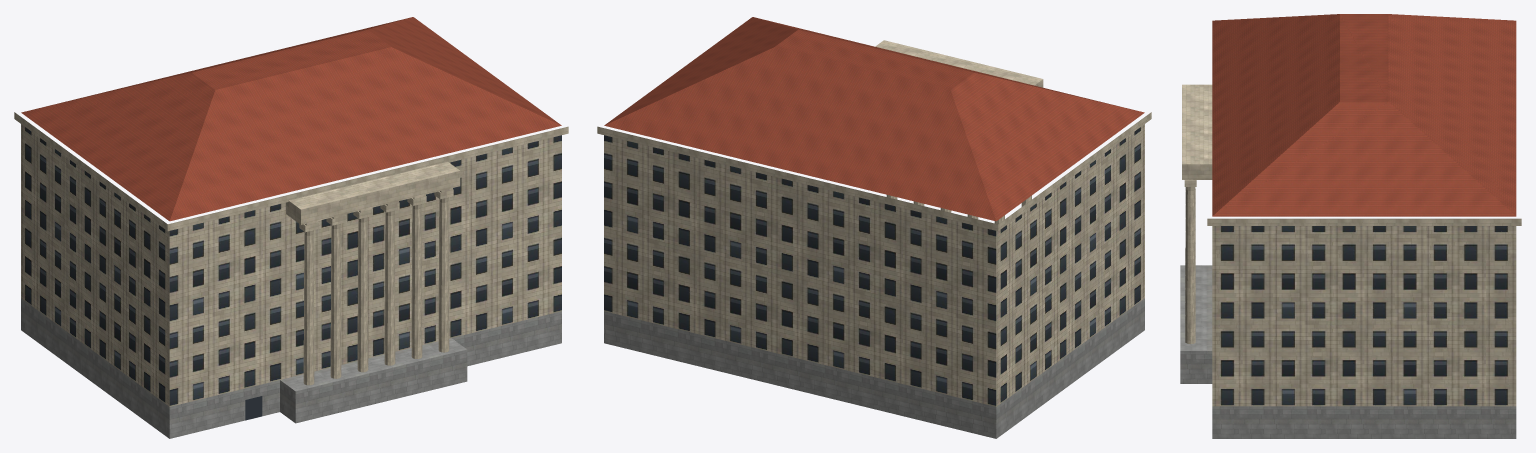
The model's file is dc_fed_colonnade.glb.
3 views of the same model, side by side, from view 1: azimuth 30°, elevation 25°; view 2: azimuth 150°, elevation 25°; view 3: azimuth 270°, elevation 25° (orthographic). The views are drawn at different scales.
Visible parts, largest first — view 1: dc_fed_colonnade; view 2: dc_fed_colonnade; view 3: dc_fed_colonnade.
Part boxes in pixels (<box>): dc_fed_colonnade: <box>14,17,568,438</box>; dc_fed_colonnade: <box>597,17,1151,438</box>; dc_fed_colonnade: <box>1180,14,1521,438</box>.
Bounding box in the file's own units: 65.4 × 43.14 × 47.1.
Materials: 5 (5 with a texture image).
